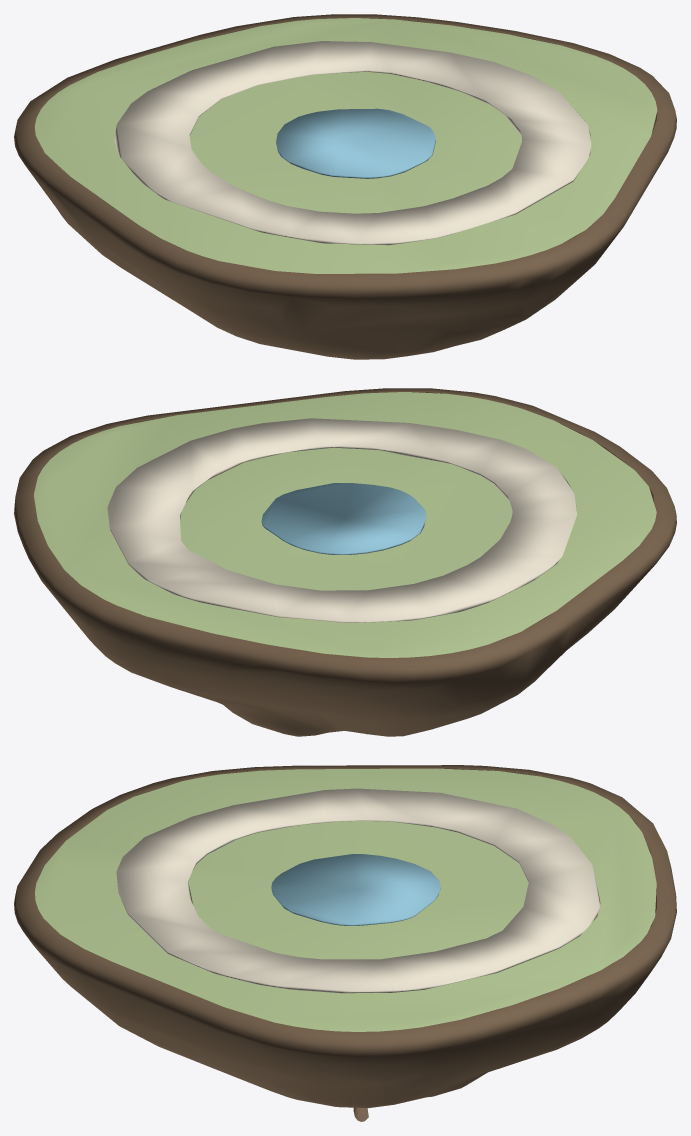
Rendered from island.glb.
3 views of the same model, one above another, from view 1: azimuth 30°, elevation 25°; view 2: azimuth 150°, elevation 25°; view 3: azimuth 270°, elevation 25° (orthographic). The views are drawn at different scales.
Parts seen in each view (by area): view 1: island, path, pond; view 2: island, path, pond; view 3: island, path, pond.
Part boxes in pixels (x1,y1,x2,y2): island: [14, 14, 676, 359]; path: [114, 41, 591, 245]; pond: [276, 108, 435, 178]; island: [14, 388, 676, 736]; path: [107, 418, 577, 622]; pond: [261, 483, 426, 554]; island: [14, 765, 676, 1121]; path: [116, 788, 600, 993]; pond: [271, 854, 440, 925].
Bounding box in the file's own units: 15.81 × 5.55 × 15.78.
